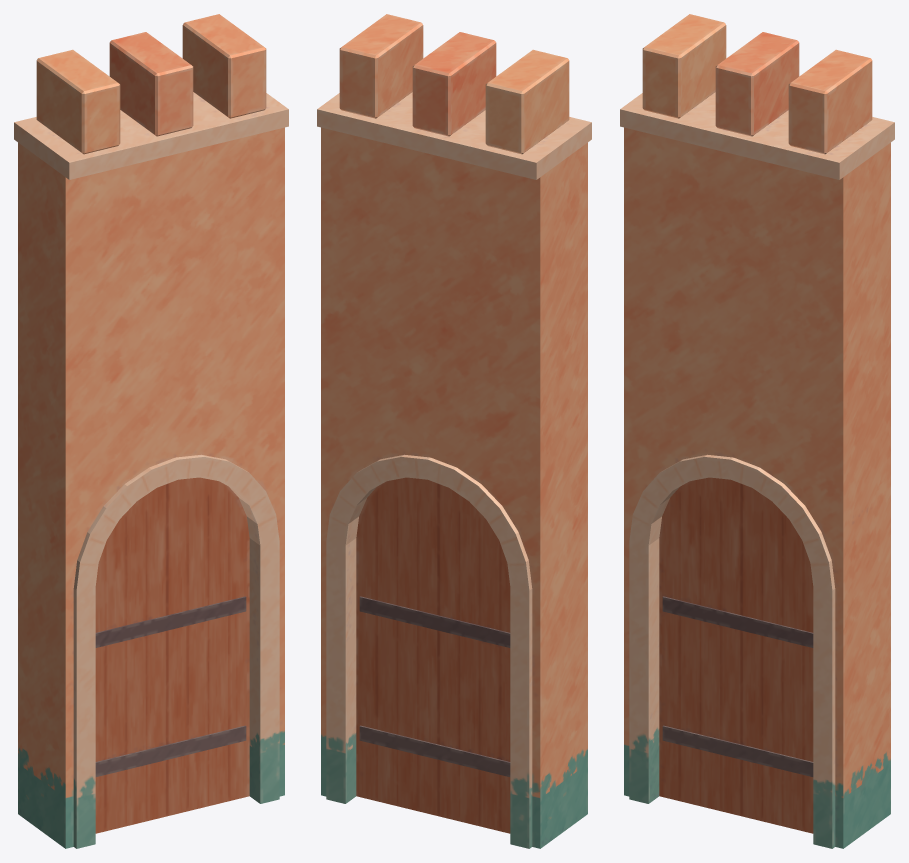
The model's file is towngate.fbx.
3 views of the same model, side by side, from view 1: azimuth 30°, elevation 25°; view 2: azimuth 150°, elevation 25°; view 3: azimuth 330°, elevation 25° (orthographic).
Parts seen in each view (by area): view 1: towngate; view 2: towngate; view 3: towngate.
Part boxes in pixels (bbox=[...]): towngate: bbox=[14, 14, 288, 848]; towngate: bbox=[317, 14, 591, 848]; towngate: bbox=[620, 14, 894, 848].
Bounding box in the file's own units: 8 × 26.2 × 3.5.
1 material, 1 textured.
